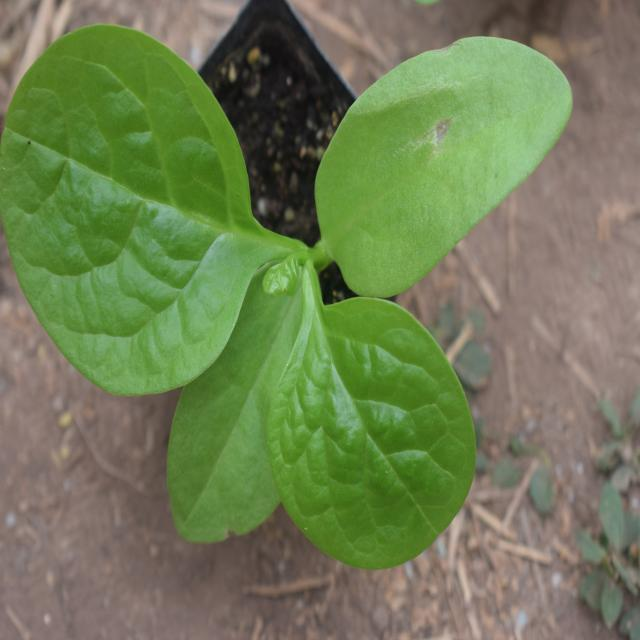Ceylon spinach: (8, 7, 499, 553)
